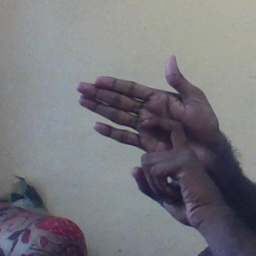R: (76, 52, 222, 206)
